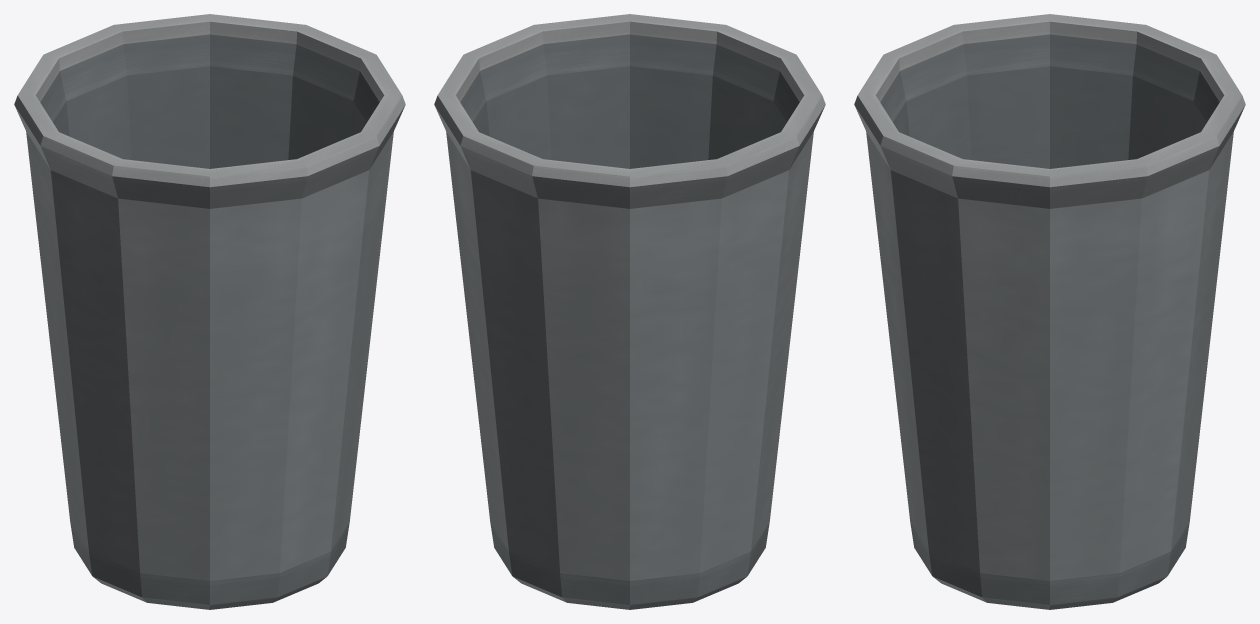
Rendered from office_wastebasket.glb.
The picture shows the model from 3 angles, left to right: view 1: azimuth 30°, elevation 25°; view 2: azimuth 150°, elevation 25°; view 3: azimuth 270°, elevation 25°; orthographic projection.
Visible parts, largest first — view 1: Office Wastebasket; view 2: Office Wastebasket; view 3: Office Wastebasket.
Part boxes in pixels (box(x1,y1,x2,y2)): Office Wastebasket: box(14, 14, 405, 609); Office Wastebasket: box(434, 14, 825, 609); Office Wastebasket: box(854, 14, 1245, 609).
Bounding box in the file's own units: 0.346 × 0.45 × 0.346.
Materials: 1 (1 with a texture image).
